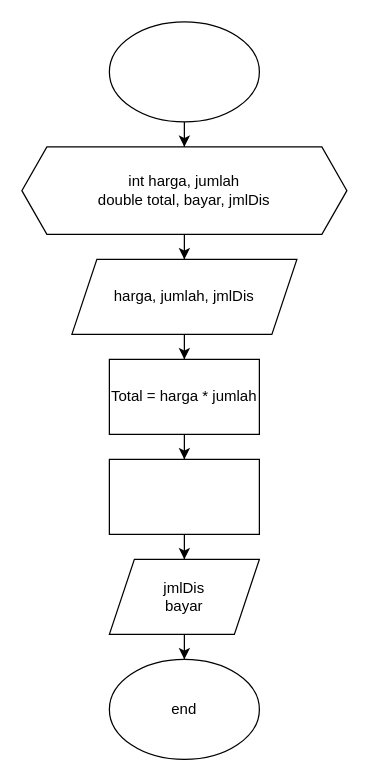
This 369x781 diagram has some shape labels left out. Here are the shapes that lost their labels. From the top down, the centre of each, then its label:
At (x=183, y=71): "Start".
At (x=183, y=496): "Bayar = total - jmlDis".
